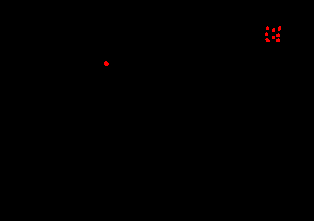Target: (104, 61, 109, 66), (265, 38, 270, 42), (276, 33, 280, 37), (276, 38, 280, 42), (278, 26, 281, 31), (266, 26, 269, 30), (272, 28, 275, 32), (265, 32, 268, 36), (272, 36, 275, 39)
